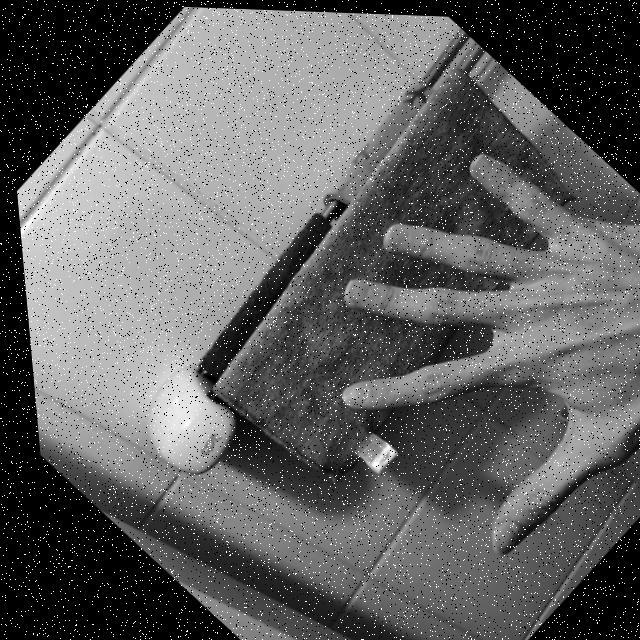no-gloves: (248, 71, 640, 607)
